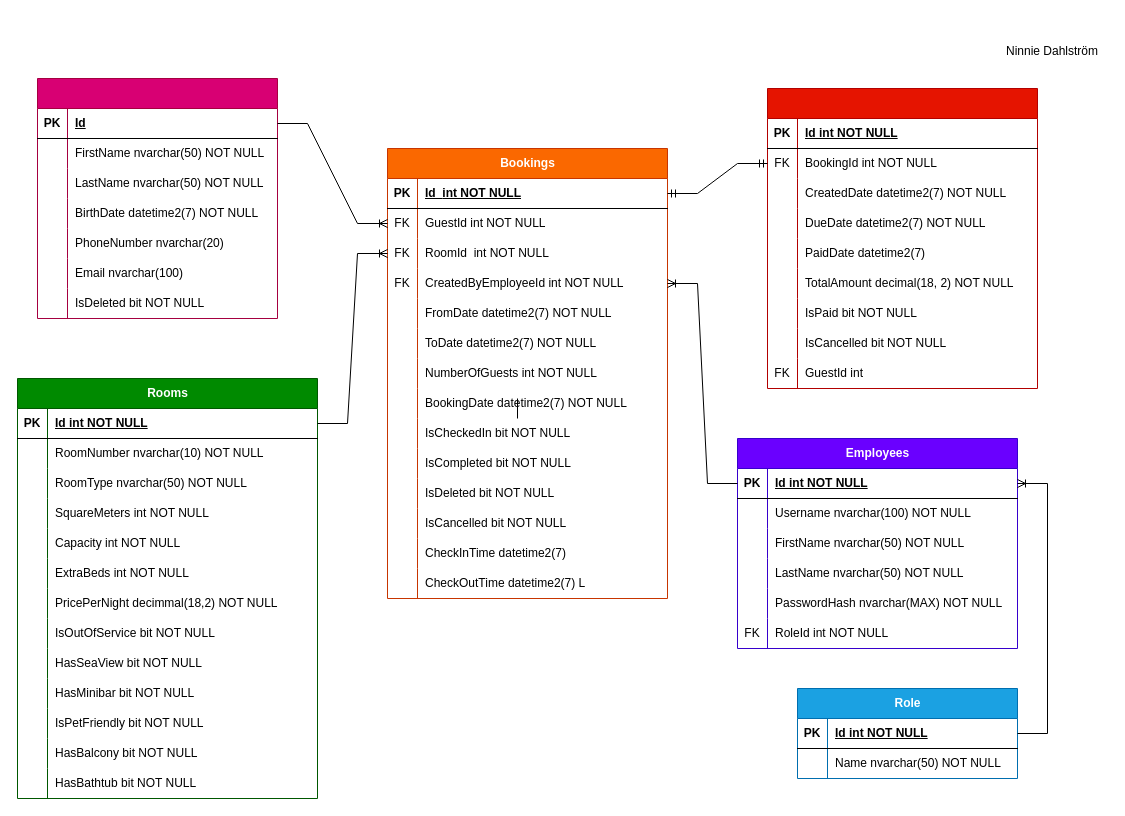
This 1125x816 diagram has some shape labels left out. The shapes that lost their labels are listed below. From the top down, each one's box as (x1, y1, x2, y2) in pixels, then its label:
(36, 78, 278, 318): Guests
(766, 88, 1038, 388): Invoice
